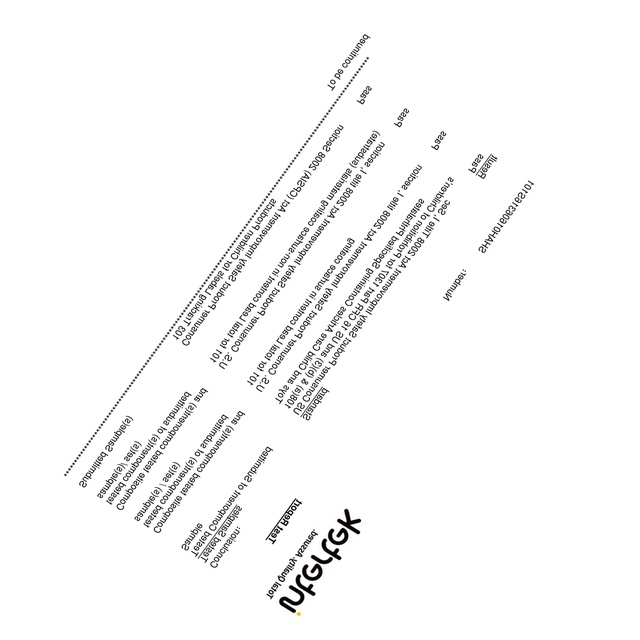intertek: (278, 506, 363, 618)
